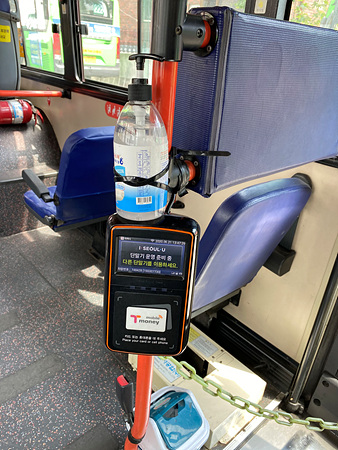terminal: (104, 211, 193, 361)
